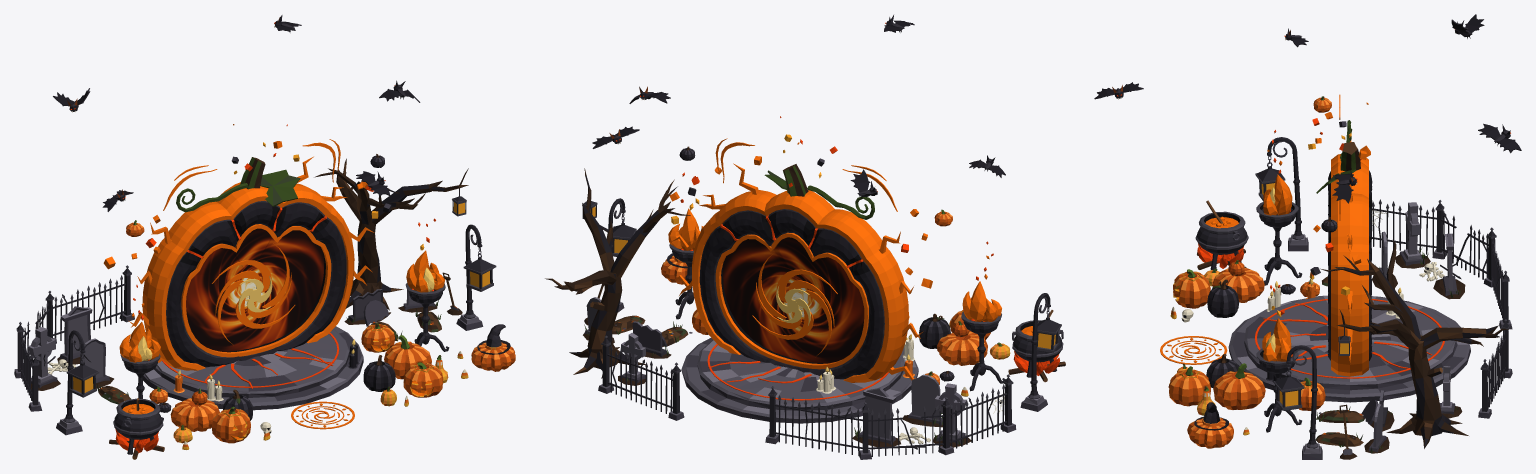
The model's file is HalloweenPortal.fbx.
The picture shows the model from 3 angles, left to right: view 1: azimuth 30°, elevation 25°; view 2: azimuth 150°, elevation 25°; view 3: azimuth 270°, elevation 25°; orthographic projection. The views are drawn at different scales.
Visible parts, largest first — view 1: Portal_Swirl, Portal_Frame, Portal_Dais, GLOW_fire_PortalRim_Outer, DeadTree_01, GLOW_fire_PortalRim_Inner, GLOW_fire_PortalSpin_A, Cauldron_01, Fence_L_03, LanternPost_01, LanternPost_02, PumpkinPile_L_Pumpkin_01 (+20 smaller); view 2: Portal_Swirl, Portal_Frame, Portal_Dais, GLOW_fire_PortalRim_Outer, DeadTree_01, GLOW_fire_PortalRim_Inner, Fence_R_01, Fence_L_01, GLOW_fire_PortalSpin_A, Fence_L_03, LanternPost_01, Fence_L_02 (+16 smaller); view 3: Portal_Dais, GLOW_fire_PortalRim_Outer, DeadTree_01, Cauldron_01, LanternPost_02, Portal_Frame, PumpkinPile_R_Pumpkin_01, LanternPost_01, Fence_R_01, Fence_L_01, Fence_L_02, GLOW_ember_PortalCracks_Dais (+24 smaller).
Part boxes in pixels (bbox=[...]): Portal_Swirl: bbox=[186, 228, 324, 351]; Portal_Frame: bbox=[166, 157, 346, 367]; Portal_Dais: bbox=[142, 326, 363, 410]; GLOW_fire_PortalRim_Outer: bbox=[142, 182, 354, 370]; DeadTree_01: bbox=[314, 158, 468, 310]; GLOW_fire_PortalRim_Inner: bbox=[181, 224, 331, 357]; GLOW_fire_PortalSpin_A: bbox=[212, 243, 295, 344]; Cauldron_01: bbox=[109, 398, 164, 459]; Fence_L_03: bbox=[53, 265, 134, 340]; LanternPost_01: bbox=[56, 330, 99, 435]; LanternPost_02: bbox=[456, 224, 496, 330]; PumpkinPile_L_Pumpkin_01: bbox=[170, 398, 219, 431]; Portal_Swirl: bbox=[722, 237, 864, 363]; Portal_Frame: bbox=[699, 164, 884, 379]; Portal_Dais: bbox=[681, 337, 918, 423]; GLOW_fire_PortalRim_Outer: bbox=[692, 190, 908, 382]; DeadTree_01: bbox=[545, 168, 690, 378]; GLOW_fire_PortalRim_Inner: bbox=[715, 232, 868, 369]; Fence_R_01: bbox=[598, 335, 684, 420]; Fence_L_01: bbox=[938, 374, 1016, 455]; GLOW_fire_PortalSpin_A: bbox=[752, 253, 837, 355]; Fence_L_03: bbox=[765, 386, 863, 455]; LanternPost_01: bbox=[1020, 293, 1061, 411]; Fence_L_02: bbox=[859, 402, 944, 459]; Portal_Dais: bbox=[1228, 295, 1470, 402]; GLOW_fire_PortalRim_Outer: bbox=[1331, 154, 1368, 376]; DeadTree_01: bbox=[1320, 240, 1508, 448]; Cauldron_01: bbox=[1195, 200, 1248, 269]; LanternPost_02: bbox=[1273, 345, 1322, 459]; Portal_Frame: bbox=[1316, 120, 1372, 360]; PumpkinPile_R_Pumpkin_01: bbox=[1213, 363, 1265, 409]; LanternPost_01: bbox=[1255, 137, 1308, 251]; Fence_R_01: bbox=[1478, 319, 1512, 418]; Fence_L_01: bbox=[1372, 199, 1446, 259]; Fence_L_02: bbox=[1440, 210, 1496, 287]; GLOW_ember_PortalCracks_Dais: bbox=[1254, 299, 1444, 378].
Bounding box in the file's own units: 30.28 × 17.93 × 24.72.
Materials: 3 (3 with a texture image).
